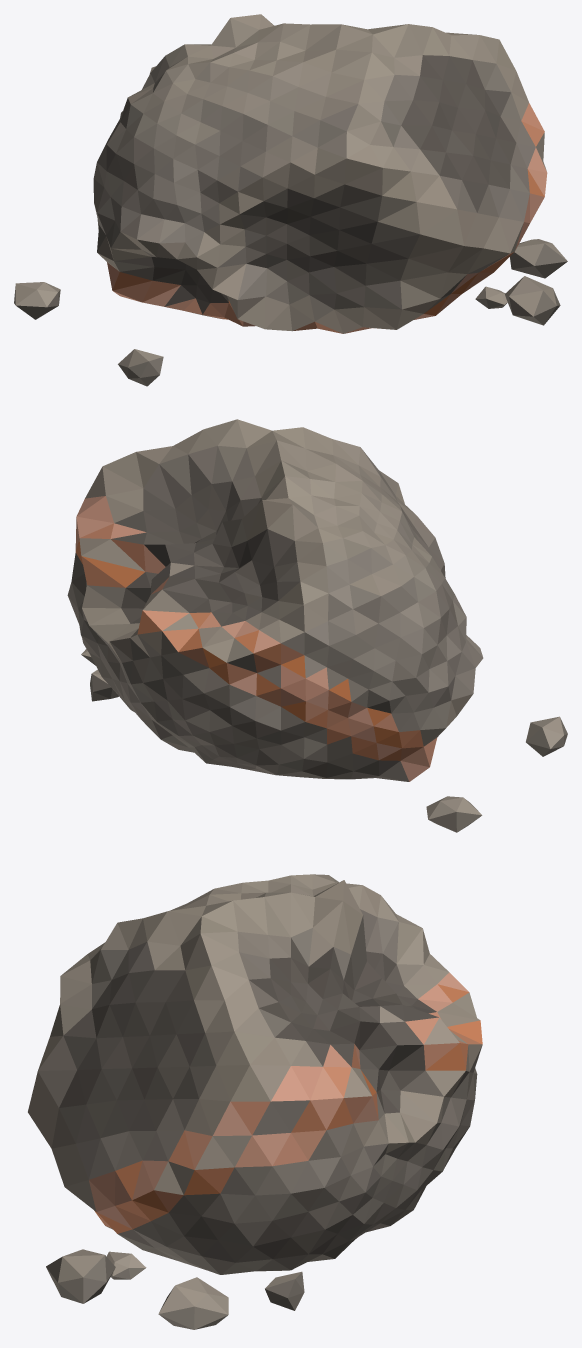
File: asteroid.glb
The picture shows the model from 3 angles, top to bottom: view 1: azimuth 30°, elevation 25°; view 2: azimuth 150°, elevation 25°; view 3: azimuth 270°, elevation 25°; orthographic projection. The views are drawn at different scales.
Visible parts, largest first — view 1: rock, rubble (×5), vein; view 2: rock, vein, rubble (×3); view 3: rock, vein, rubble (×4).
Boxes of the visible parts, x1,y1,x2,y2 form: rock: (93,14,546,333); rubble (×5): (14,239,567,386); vein: (107,103,547,333); rock: (67,419,483,781); vein: (75,496,437,781); rubble (×3): (90,669,567,832); rock: (28,874,482,1274); vein: (89,972,482,1233); rubble (×4): (46,1249,304,1329).
Bounding box in the file's own units: 3.46 × 1.92 × 2.97.
